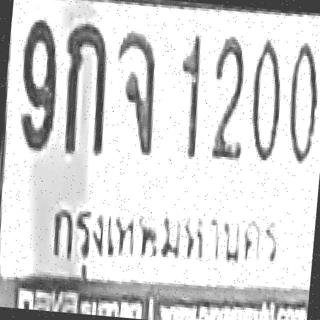A01: (57, 20, 113, 156)
A08: (108, 28, 162, 157)
N00: (244, 35, 286, 162), (282, 38, 320, 166)
N01: (172, 31, 206, 160)
N02: (207, 32, 251, 162)
N09: (15, 16, 61, 152)
P04: (42, 185, 291, 295)
